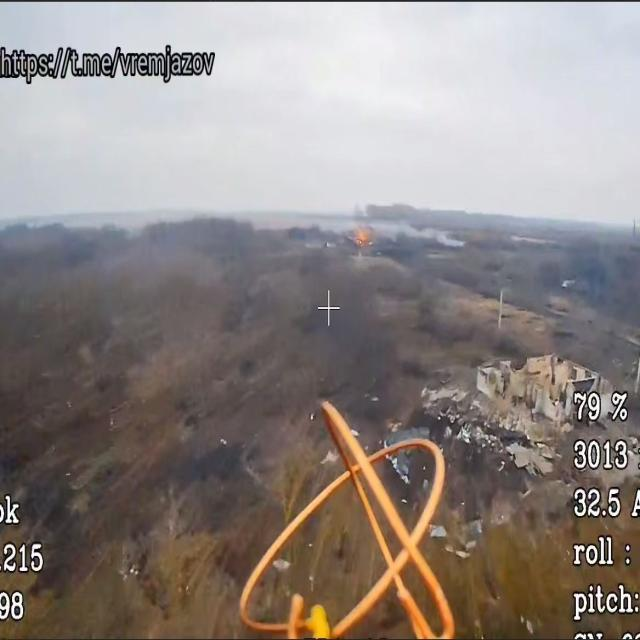fortification: (469, 338, 602, 461)
vehicle: (342, 223, 377, 257)
